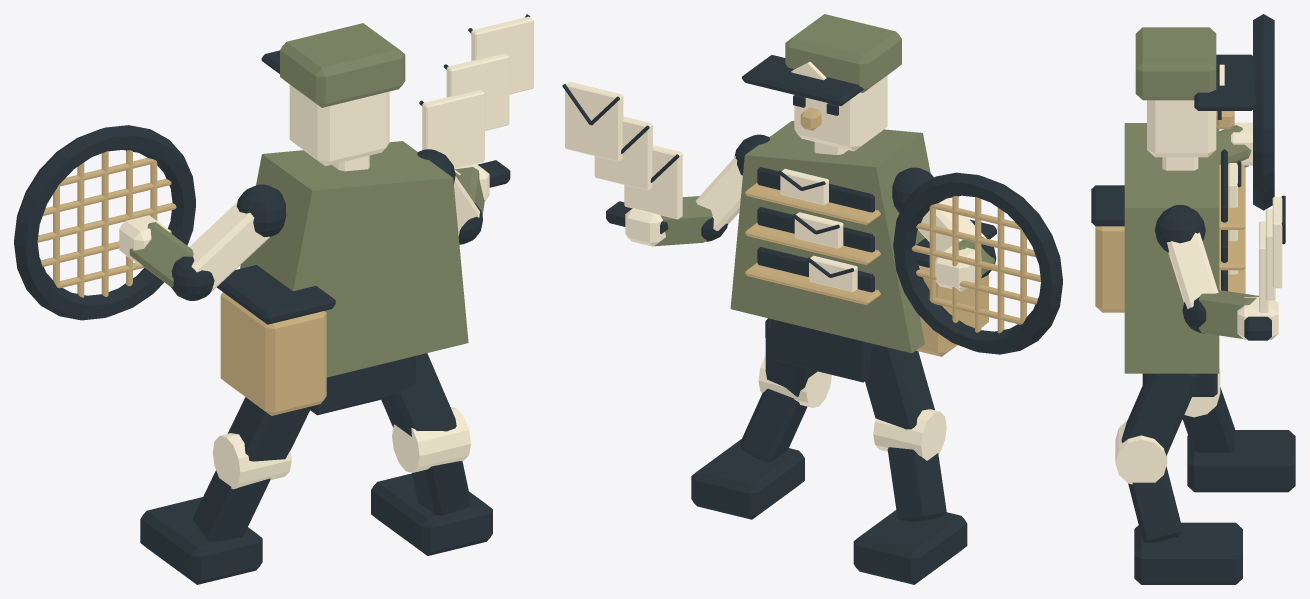
3 views of the same model, side by side, from view 1: azimuth 30°, elevation 25°; view 2: azimuth 150°, elevation 25°; view 3: azimuth 270°, elevation 25° (orthographic). The views are drawn at different scales.
Visible parts, largest first — view 1: sorter_coat, filter_sieve_rim, rejects_bag, cap_crown, left_shoe, angular_face, right_shoe, envelope_blade_0_body, rejects_lid, left_upper_arm, right_thigh, pelvis_block (+18 smaller); view 2: sorter_coat, filter_sieve_rim, cap_crown, left_shoe, right_shoe, left_thigh, pelvis_block, angular_face, envelope_blade_2_body, left_shin, right_shin, cap_peak (+27 smaller); view 3: sorter_coat, right_shoe, left_shoe, cap_crown, filter_sieve_rim, angular_face, right_thigh, right_shin, cap_peak, rejects_bag, right_upper_arm, right_knee_pin (+21 smaller).
Boxes of the visible parts, left/top/right/bottom form: sorter_coat: left=240, top=141, right=468, bottom=377; filter_sieve_rim: left=14, top=125, right=195, bottom=320; rejects_bag: left=220, top=292, right=326, bottom=415; cap_crown: left=280, top=23, right=405, bottom=107; left_shoe: left=140, top=497, right=262, bottom=584; angular_face: left=289, top=85, right=389, bottom=166; right_shoe: left=371, top=473, right=492, bottom=555; envelope_blade_0_body: left=422, top=90, right=484, bottom=168; rejects_lid: left=216, top=265, right=335, bottom=324; left_upper_arm: left=189, top=202, right=269, bottom=290; right_thigh: left=381, top=353, right=456, bottom=436; pelvis_block: left=307, top=356, right=415, bottom=415; sorter_coat: left=730, top=121, right=930, bottom=353; filter_sieve_rim: left=893, top=172, right=1062, bottom=354; cap_crown: left=785, top=14, right=901, bottom=92; left_shoe: left=853, top=510, right=967, bottom=584; right_shoe: left=691, top=439, right=804, bottom=519; left_thigh: left=865, top=344, right=934, bottom=429; pelvis_block: left=771, top=319, right=872, bottom=382; angular_face: left=794, top=75, right=887, bottom=151; envelope_blade_2_body: left=565, top=81, right=623, bottom=161; left_shin: left=887, top=447, right=946, bottom=521; right_shin: left=740, top=388, right=807, bottom=461; cap_peak: left=742, top=55, right=863, bottom=105; sorter_coat: left=1124, top=123, right=1219, bottom=373; right_shoe: left=1134, top=522, right=1242, bottom=584; left_shoe: left=1187, top=430, right=1295, bottom=492; cap_crown: left=1135, top=27, right=1216, bottom=100; filter_sieve_rim: left=1253, top=14, right=1274, bottom=210; angular_face: left=1147, top=100, right=1216, bottom=157; right_thigh: left=1121, top=373, right=1199, bottom=455; right_shin: left=1128, top=466, right=1181, bottom=542; cap_peak: left=1194, top=54, right=1255, bottom=110; rejects_bag: left=1095, top=226, right=1124, bottom=312; right_upper_arm: left=1167, top=232, right=1218, bottom=308; right_knee_pin: left=1115, top=420, right=1167, bottom=484.
Bounding box in the file's own units: 2.06 × 1.92 × 0.735.
